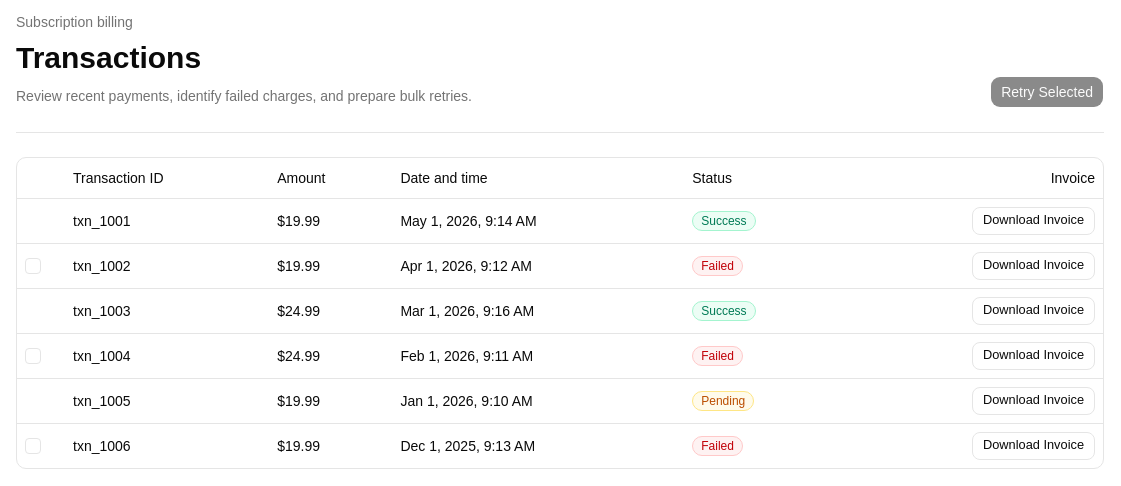
TransactionsDashboard › shows generating state only for the clicked invoice row while download is pending
The width and height of the screenshot is (1121, 486).
Click the button with aria-label "Download invoice INV-2026-1002".
click(1034, 266)  # box left=972, top=252, right=1095, bottom=280
Wait 1999 ms
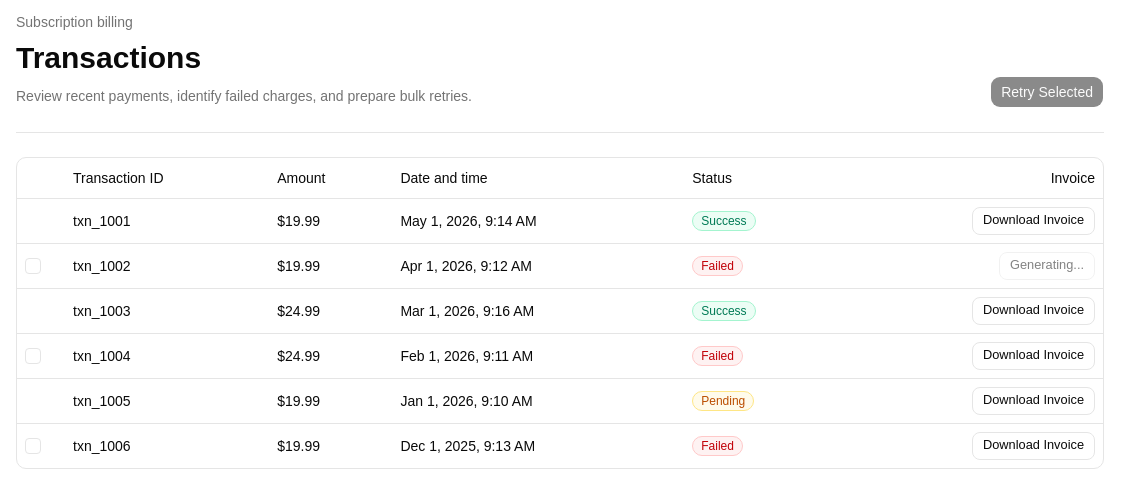
Check: the button with aria-label "Download invoice INV-2026-1001" reads "Download Invoice", box left=972, top=206, right=1095, bottom=234
Check: the button with aria-label "Download invoice INV-2026-1002" reads "Generating...", box left=999, top=252, right=1095, bottom=280
Check: the button with aria-label "Download invoice INV-2026-1002" is disabled, box left=999, top=252, right=1095, bottom=280
